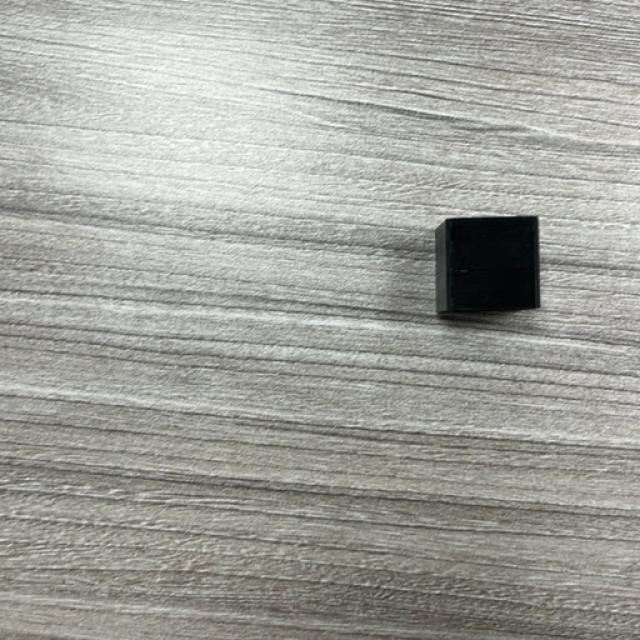Negro: (435, 216, 542, 320)
